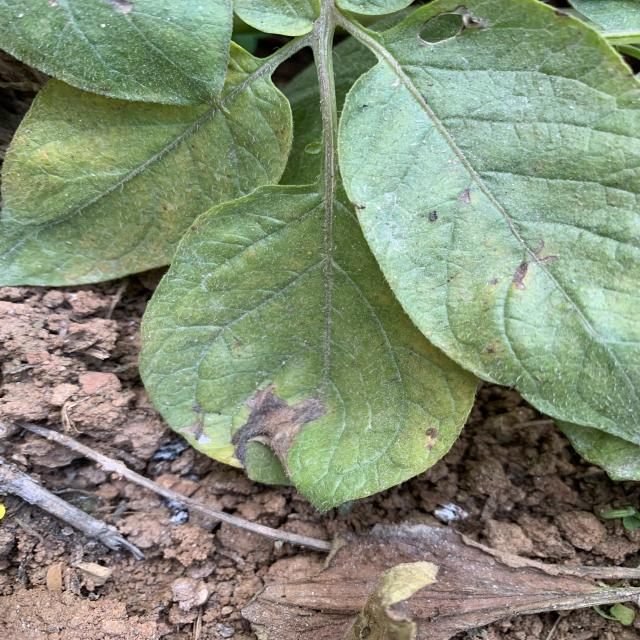lateblight: (232, 384, 327, 476)
